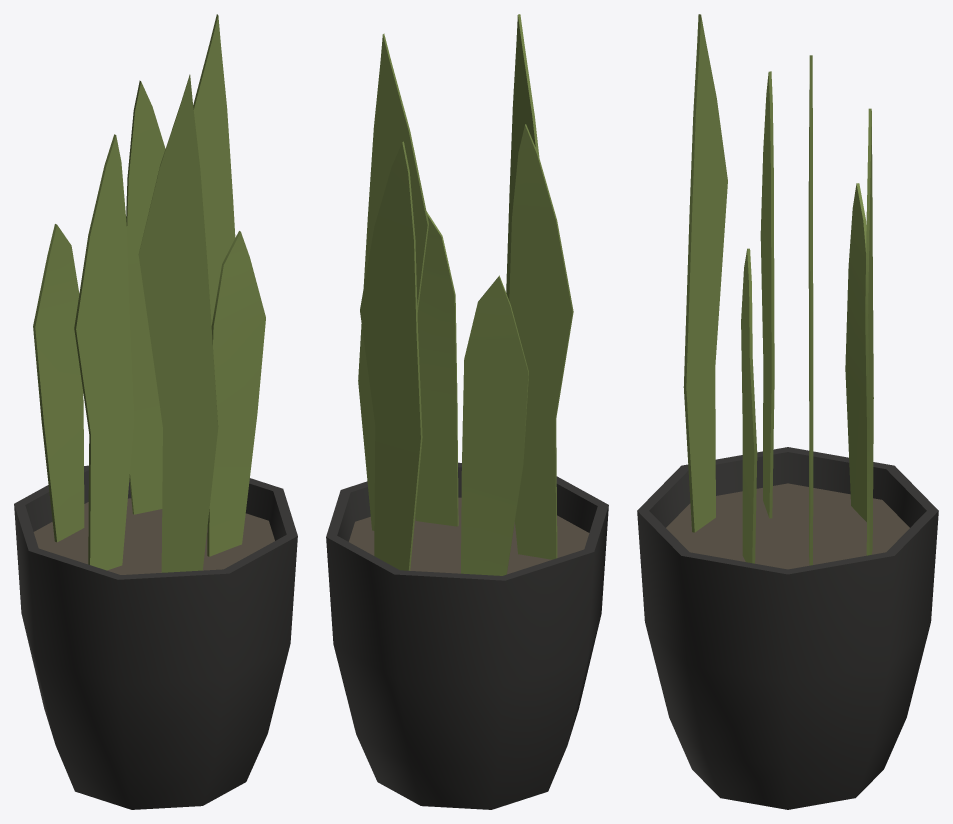
Rendered from houseplant-4.glb.
The picture shows the model from 3 angles, left to right: view 1: azimuth 30°, elevation 25°; view 2: azimuth 150°, elevation 25°; view 3: azimuth 270°, elevation 25°; orthographic projection. The views are drawn at different scales.
Visible parts, largest first — view 1: Houseplant_4; view 2: Houseplant_4; view 3: Houseplant_4.
Boxes of the visible parts, box(x1,y1,x2,y2) form: Houseplant_4: box(14, 14, 297, 809); Houseplant_4: box(326, 14, 608, 809); Houseplant_4: box(637, 14, 938, 809).
Size of the model in its own units: 0.3382 by 0.9284 by 0.3382.
